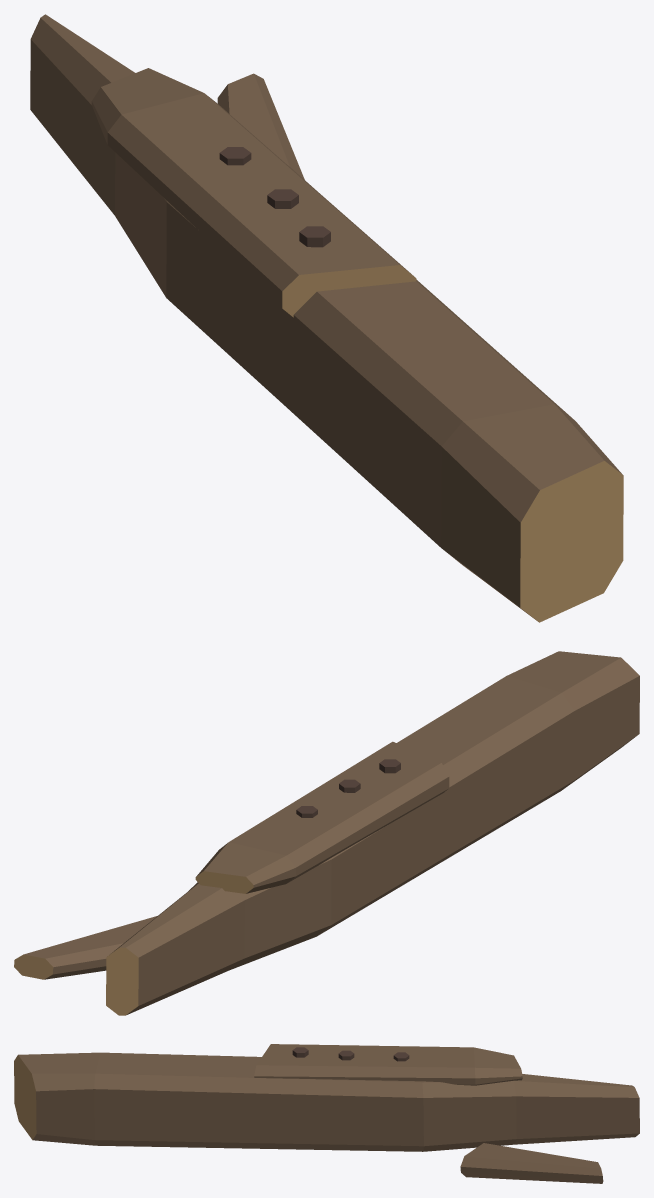
The model's file is east-bank-spare-rail.glb.
3 views of the same model, one above another, from view 1: azimuth 30°, elevation 25°; view 2: azimuth 150°, elevation 25°; view 3: azimuth 270°, elevation 25° (orthographic). The views are drawn at different scales.
Parts seen in each view (by area): view 1: Broken rail with surviving scarf tongue; view 2: Broken rail with surviving scarf tongue; view 3: Broken rail with surviving scarf tongue.
Part boxes in pixels (left/top/right/bottom): Broken rail with surviving scarf tongue: left=30, top=14, right=623, bottom=622; Broken rail with surviving scarf tongue: left=14, top=651, right=639, bottom=1015; Broken rail with surviving scarf tongue: left=14, top=1044, right=639, bottom=1183.
Size of the model in its own units: 0.6271 by 0.3201 by 2.05.
